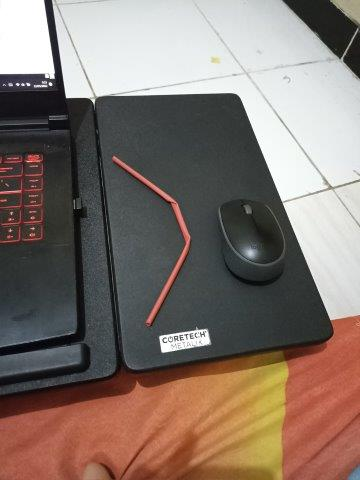sedotan: (112, 156, 191, 326)
